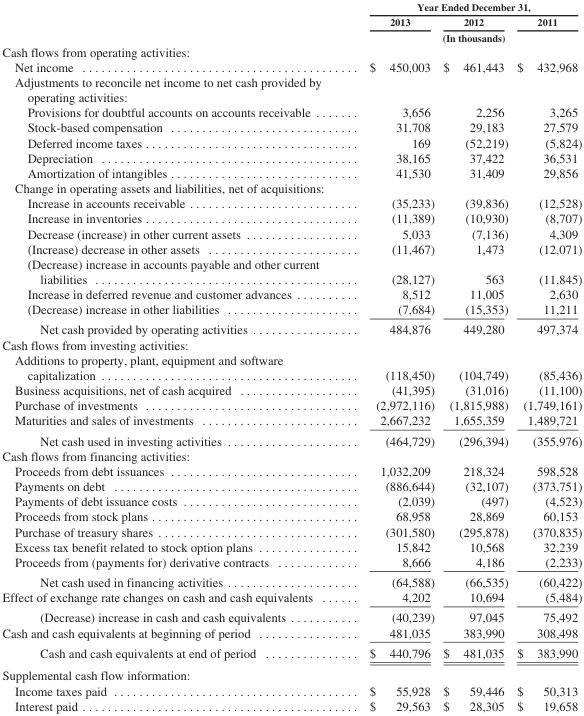table: (1, 0, 581, 712)
table column: (1, 0, 343, 712), (343, 0, 438, 712), (438, 0, 511, 712), (511, 0, 581, 712)
table column header: (1, 0, 581, 43)
table projected row header: (1, 74, 581, 104), (1, 663, 581, 682), (1, 447, 581, 463), (1, 43, 581, 58), (1, 180, 581, 195), (1, 336, 581, 351)
table row: (1, 255, 581, 286), (1, 351, 581, 382), (1, 74, 581, 104), (1, 642, 581, 663), (1, 663, 581, 682), (1, 301, 581, 319), (1, 412, 581, 430), (1, 553, 581, 571), (1, 571, 581, 589), (1, 606, 581, 624), (1, 624, 581, 642), (1, 319, 581, 336), (1, 430, 581, 447), (1, 589, 581, 606), (1, 58, 581, 74), (1, 149, 581, 165), (1, 447, 581, 463), (1, 14, 581, 29), (1, 43, 581, 58), (1, 104, 581, 119), (1, 119, 581, 134), (1, 134, 581, 149), (1, 165, 581, 180), (1, 180, 581, 195), (1, 195, 581, 210), (1, 210, 581, 225), (1, 225, 581, 240), (1, 240, 581, 255), (1, 286, 581, 301), (1, 336, 581, 351), (1, 382, 581, 397), (1, 397, 581, 412), (1, 463, 581, 478), (1, 478, 581, 493), (1, 493, 581, 508), (1, 508, 581, 523), (1, 523, 581, 538), (1, 538, 581, 553), (1, 682, 581, 697), (1, 697, 581, 712), (1, 0, 581, 14), (1, 29, 581, 43)
table spanning cell: (343, 0, 581, 14), (343, 29, 581, 43)
